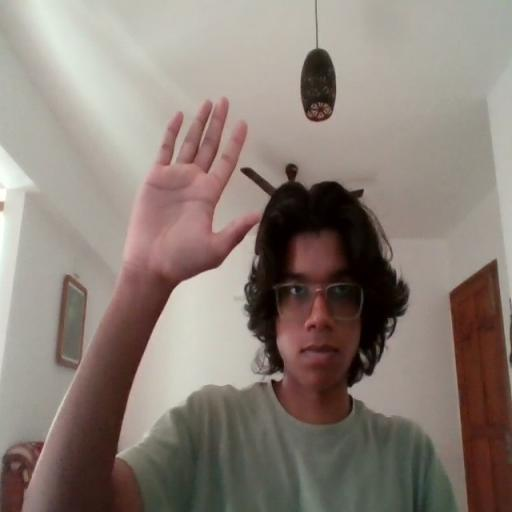Paper: (126, 95, 260, 284)
